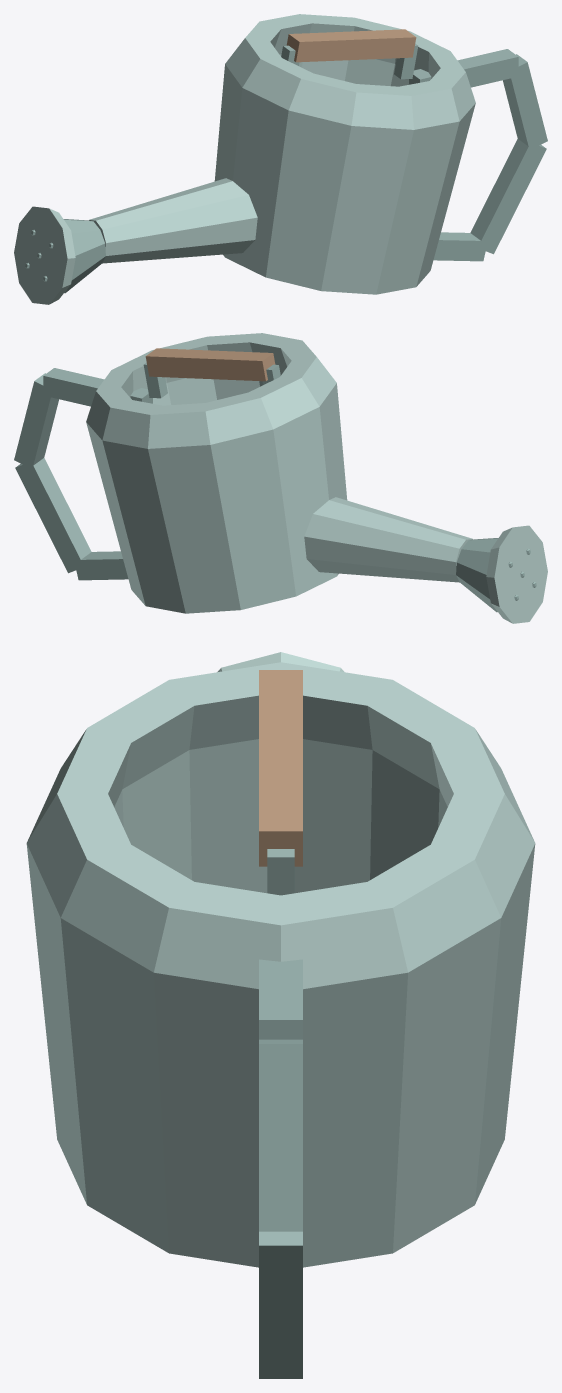
File: crafted-tool-watering-can-2.glb
The picture shows the model from 3 angles, top to bottom: view 1: azimuth 30°, elevation 25°; view 2: azimuth 150°, elevation 25°; view 3: azimuth 270°, elevation 25°; orthographic projection. The views are drawn at different scales.
Visible parts, largest first — view 1: vessel, spout, rose, top-grip, handle-2, handle-1, handle, rose-neck, handle-3, grip-support-1; view 2: vessel, spout, rose, top-grip, handle-2, handle-1, handle, rose-neck, handle-3, grip-support-1; view 3: vessel, handle-1, top-grip, handle-2, handle, grip-support-1, rose.
Part boxes in pixels (x1,y1,x2,y2): vessel: [214, 14, 475, 294]; spout: [88, 178, 257, 263]; rose: [14, 206, 75, 304]; top-grip: [286, 29, 416, 62]; handle-2: [470, 139, 546, 254]; handle-1: [503, 54, 547, 147]; handle: [409, 49, 518, 87]; rose-neck: [63, 219, 105, 293]; handle-3: [433, 232, 487, 261]; grip-support-1: [394, 44, 418, 79]; vessel: [86, 333, 347, 613]; spout: [304, 497, 473, 582]; rose: [486, 525, 547, 623]; top-grip: [145, 348, 275, 381]; handle-2: [15, 458, 91, 573]; handle-1: [14, 373, 58, 468]; handle: [43, 368, 152, 406]; rose-neck: [456, 538, 498, 612]; handle-3: [74, 551, 128, 580]; grip-support-1: [143, 363, 167, 398]; vessel: [26, 662, 535, 1267]; handle-1: [259, 1039, 302, 1231]; top-grip: [259, 670, 302, 866]; handle-2: [259, 1231, 302, 1378]; handle: [259, 959, 302, 1039]; grip-support-1: [267, 849, 294, 895]; rose: [217, 652, 344, 672].
Bounding box in the file's own units: 1.16 × 0.5731 × 0.5.
